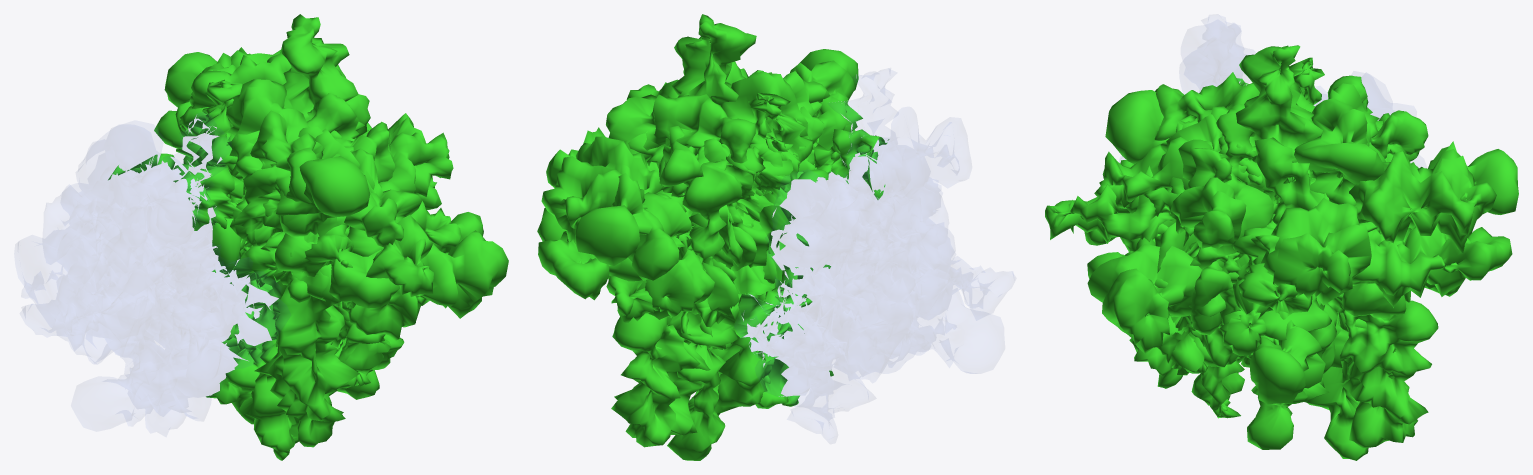
The model's file is ribosome.fbx.
3 renders of one model, left to right at view 1: azimuth 30°, elevation 25°; view 2: azimuth 150°, elevation 25°; view 3: azimuth 270°, elevation 25°, orthographic. The views are drawn at different scales.
Visible parts, largest first — view 1: ribosome_1-material, ribosome_2-material; view 2: ribosome_1-material, ribosome_2-material; view 3: ribosome_1-material, ribosome_2-material.
Boxes of the visible parts, x1=… form: ribosome_1-material: x1=108, y1=14, x2=508, y2=460; ribosome_2-material: x1=18, y1=118, x2=278, y2=428; ribosome_1-material: x1=537, y1=14, x2=889, y2=460; ribosome_2-material: x1=742, y1=69, x2=1013, y2=430; ribosome_1-material: x1=1045, y1=45, x2=1518, y2=460; ribosome_2-material: x1=1121, y1=17, x2=1394, y2=158.
Bounding box in the file's own units: 688 × 597 × 607.
